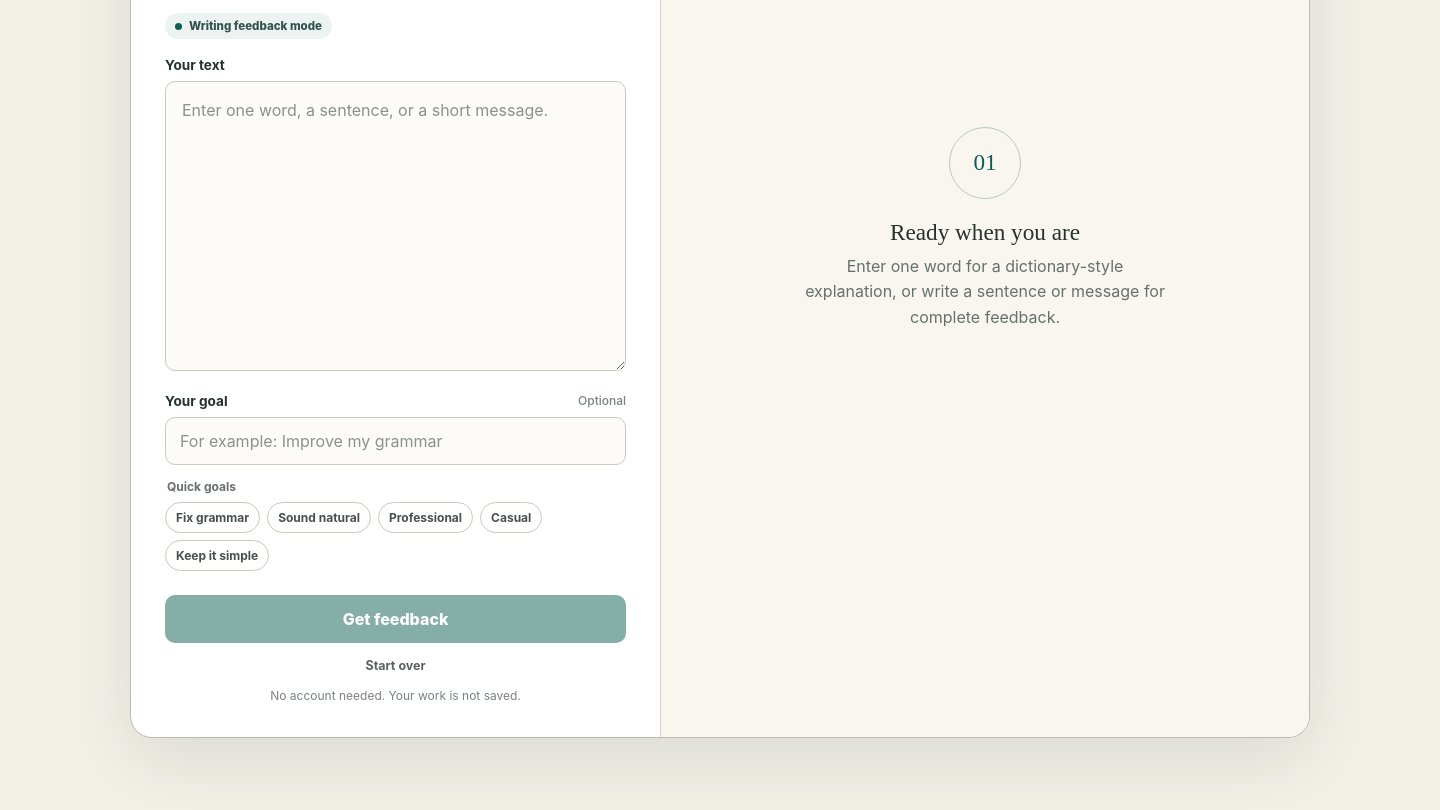
Writing Coach interactions › Retry reuses the failed request snapshot
(page scrolled)
Click the button "Fix grammar" at [213, 518], box [165, 502, 260, 533]
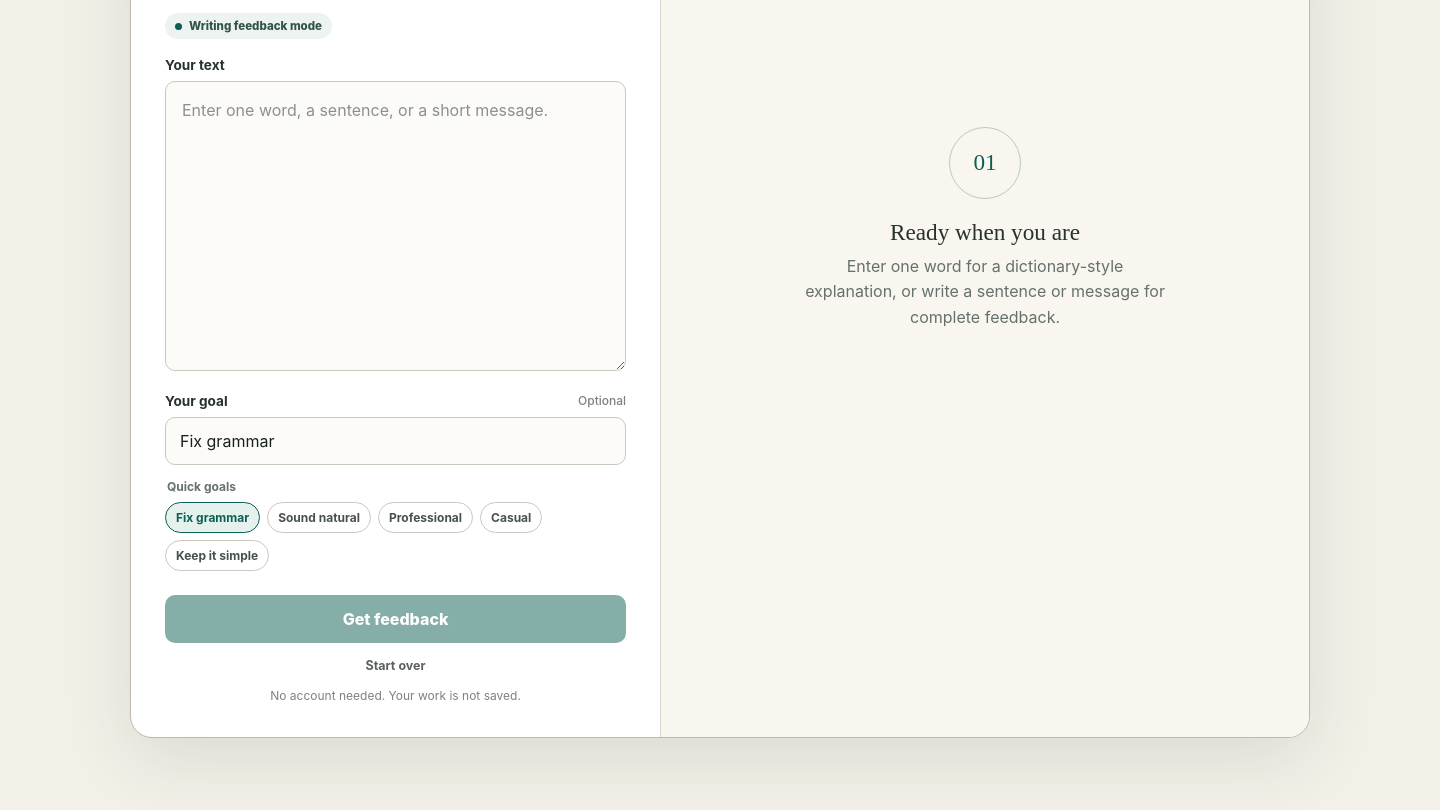
Type "I go supermarket yesterday." into the text box labelled "Your text" at [396, 226], box [165, 81, 626, 371]
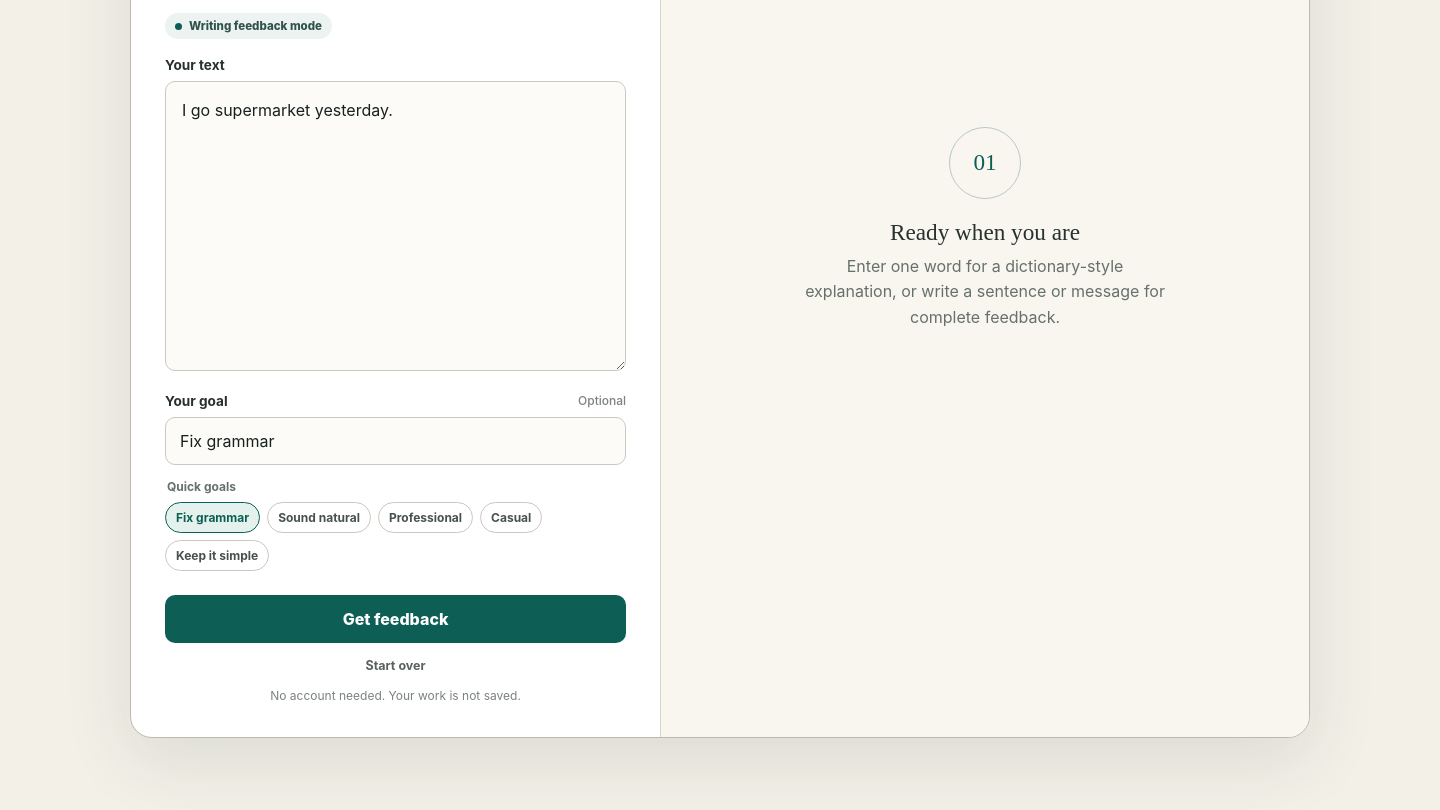
Click the button "Get feedback" at [396, 619], box [165, 595, 626, 643]
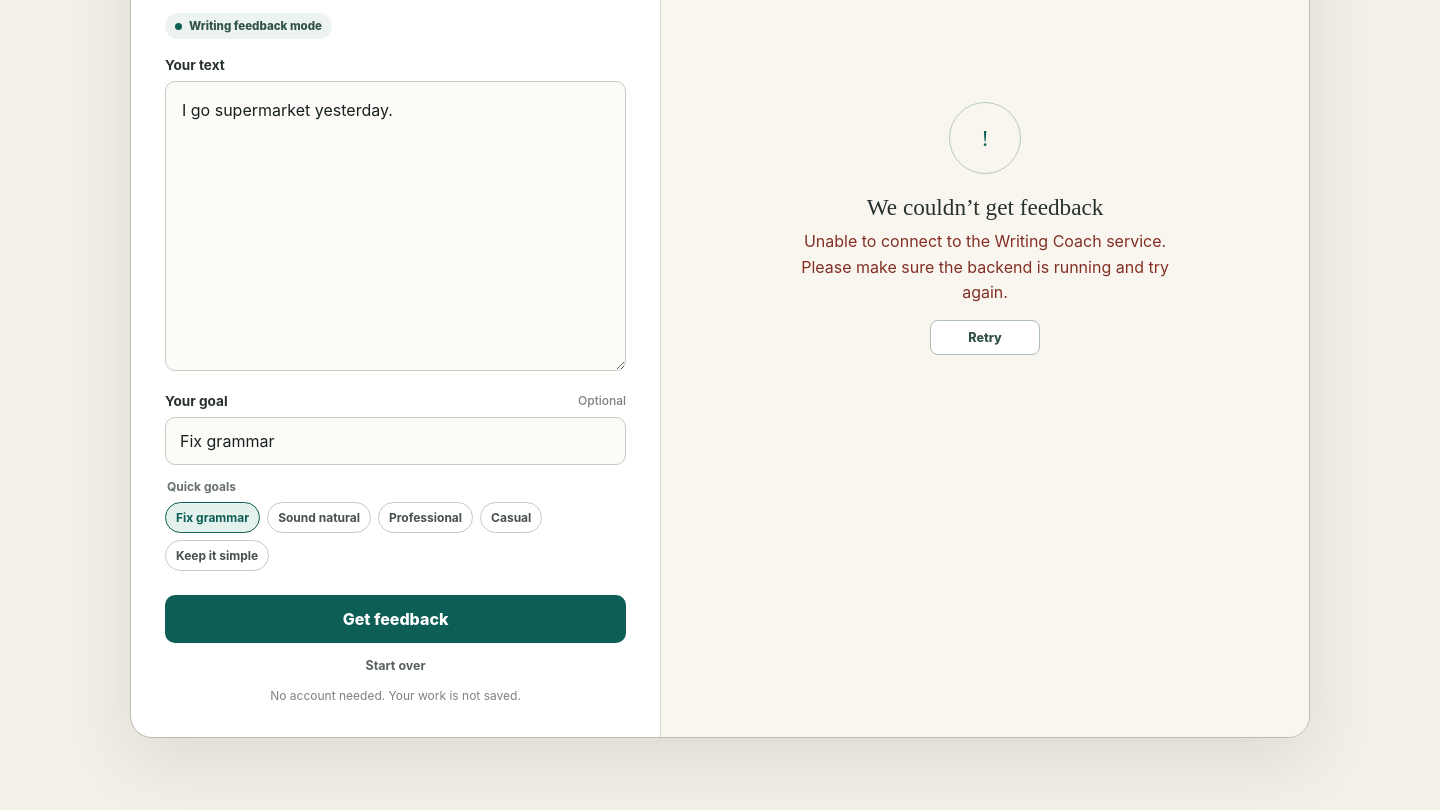
Expected: the button "Retry" is shown, [930, 320, 1040, 355]
Replace the text in the text box labelled "Your text" with "This is different text." at [396, 226], box [165, 81, 626, 371]
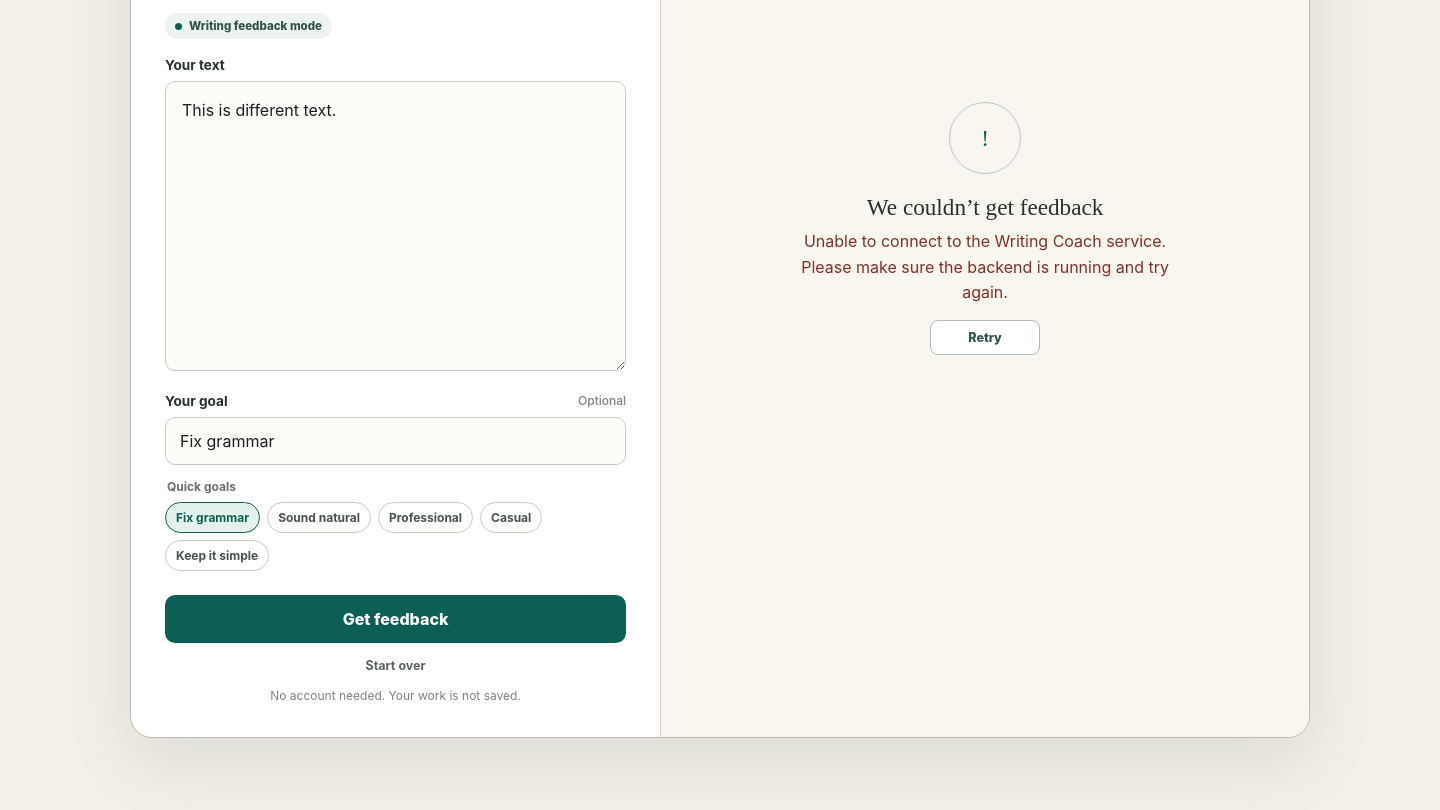
Replace the text in the field labelled "Your goal Optional" with "Casual" at [396, 441], box [165, 417, 626, 465]
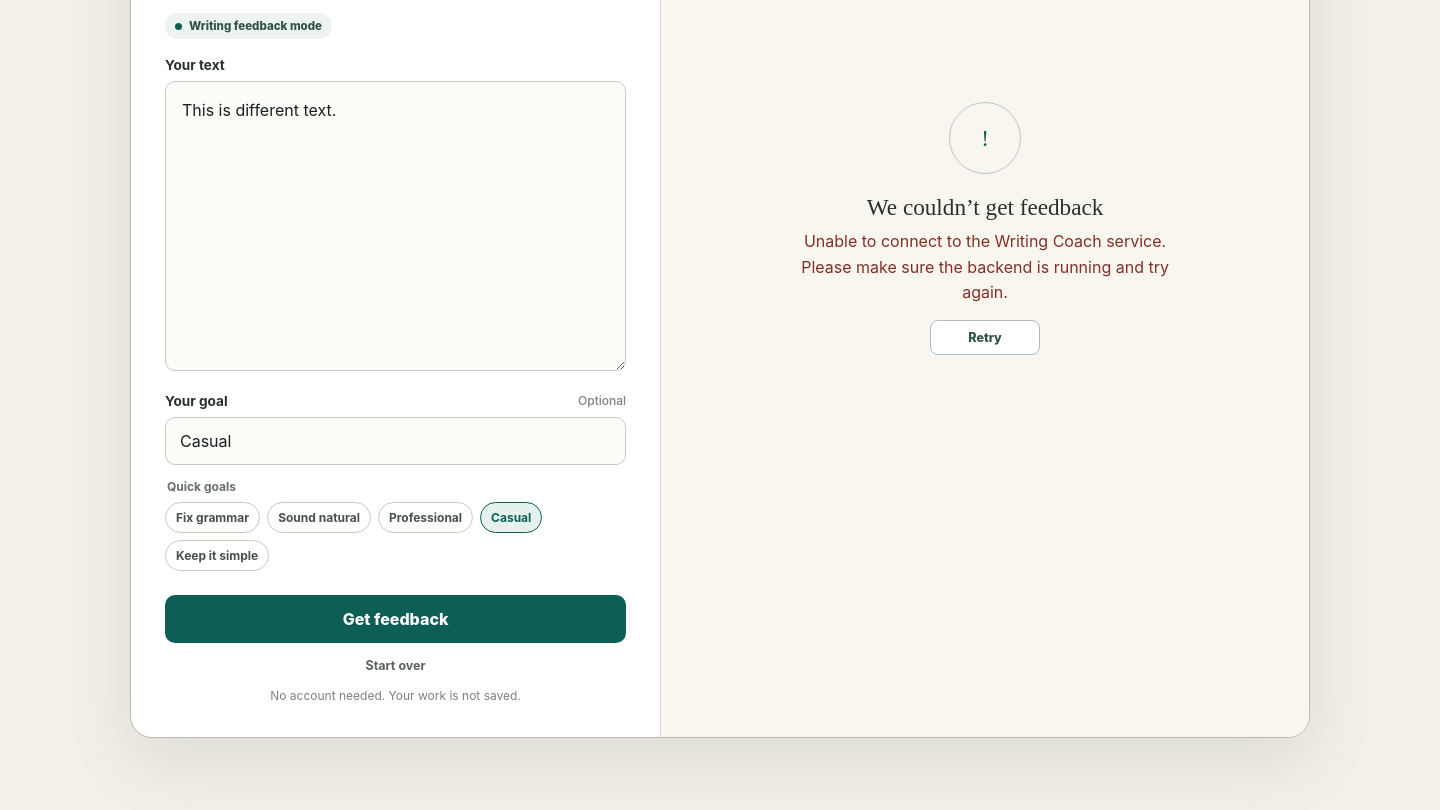
Click the button "Retry" at [985, 337], box [930, 320, 1040, 355]
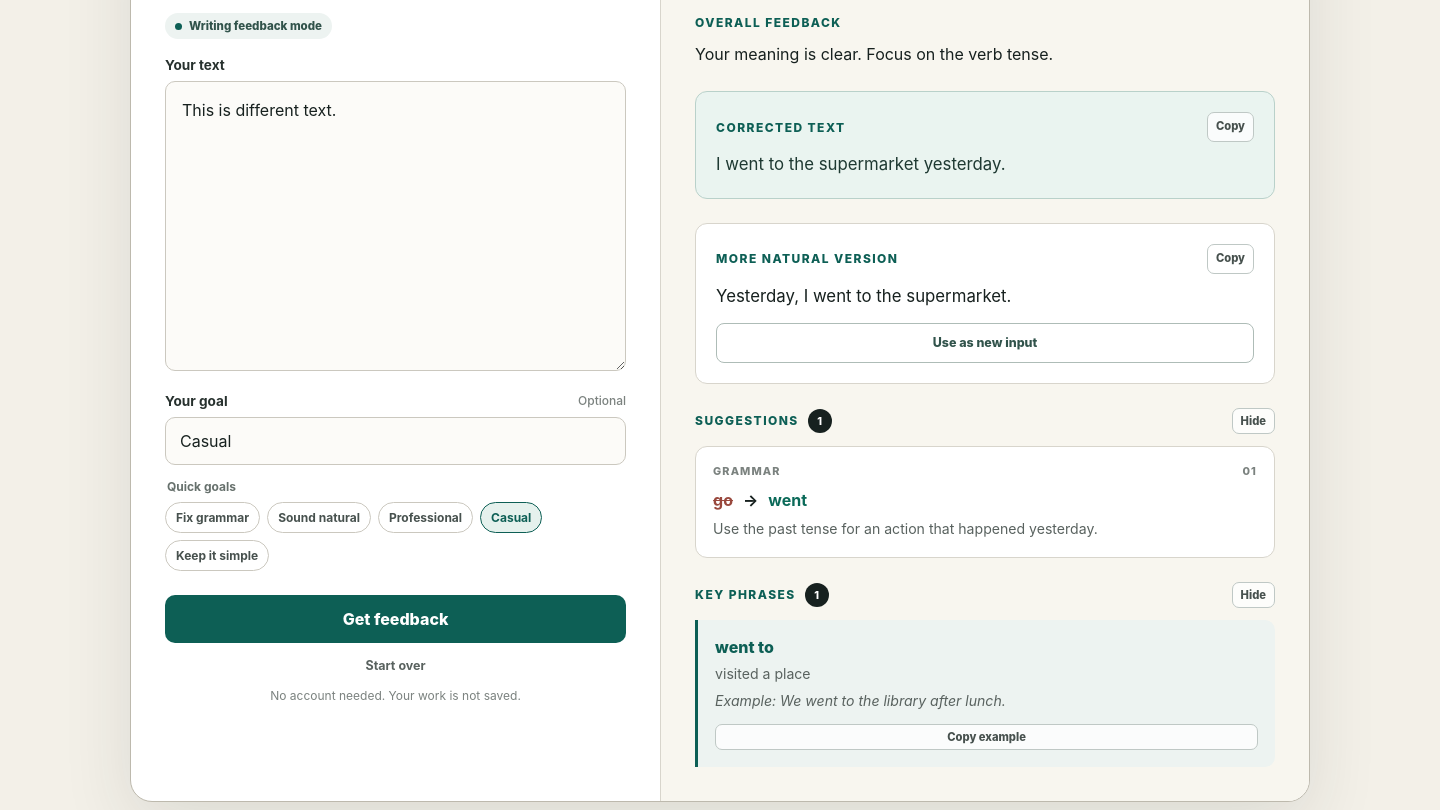
Expected: the text "Corrected text" is shown, [716, 118, 846, 137]
